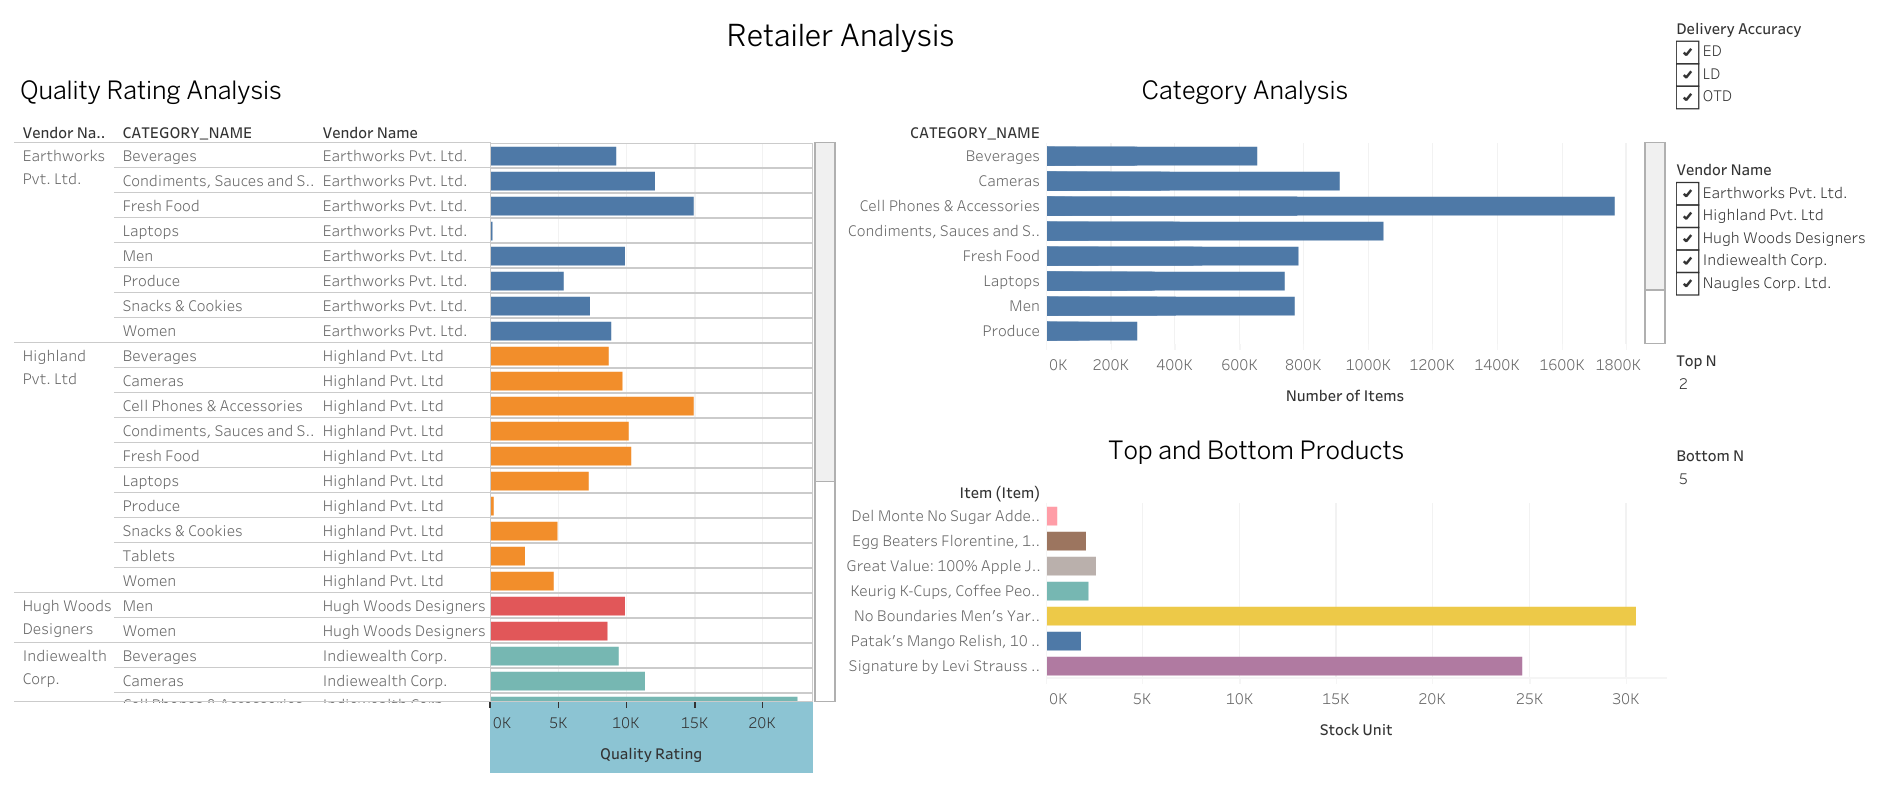

This screenshot's page, from the dashboard's own definition file:
{"tool":"tableau","page":{"name":"Retailer Analysis","canvas":[1000,1000],"units":"permille","ordinal":1},"visuals":[{"type":"title","box":[6.9,13.5,847.6,65.9]},{"type":"filter","title":"Quality Rating Analysis","param":"[federated.0stq3pm0vzlnae1dms6wo1qqt639].[none:Delivery_Accuracy:nk]","box":[854.5,13.5,138.5,182.4]},{"type":"worksheet","title":"Quality Rating Analysis","mark":"Automatic","rows":["Vendor_Name","CATEGORY_NAME","Vendor_Name"],"cols":["Quality_Rating"],"box":[6.9,79.4,423.8,907.1]},{"type":"worksheet","title":"Category Analysis1","mark":"Automatic","rows":["CATEGORY_NAME"],"box":[430.7,79.4,423.8,453.6]},{"type":"filter","title":"Quality Rating Analysis","param":"[federated.0stq3pm0vzlnae1dms6wo1qqt639].[none:Vendor_Name:nk]","box":[854.5,195.9,138.5,246.6]},{"type":"parameter","param":"[Parameters].[Parameter 1]","box":[854.5,442.6,138.5,126.7]},{"type":"worksheet","title":"Top and Bottom Products","mark":"Automatic","rows":["ITEM"],"cols":["Stock_Unit"],"box":[430.7,532.9,423.8,453.6]},{"type":"parameter","param":"[Parameters].[Parameter 2]","box":[854.5,569.2,138.5,126.7]}]}

Visuals, with their boxes on the dashboard's canvas, which has no fixed pixel size, in thousandths of its width and height (x1, y1, x2, y2). These are canvas units, not pixel positions in the 1880x788 screenshot, which may show the page scaled, cropped or inside an application window:
title: (7, 14, 854, 79)
"Quality Rating Analysis" filter: (854, 14, 993, 196)
"Quality Rating Analysis" worksheet: (7, 79, 431, 986)
"Category Analysis1" worksheet: (431, 79, 854, 533)
"Quality Rating Analysis" filter: (854, 196, 993, 442)
parameter: (854, 443, 993, 569)
"Top and Bottom Products" worksheet: (431, 533, 854, 986)
parameter: (854, 569, 993, 696)
